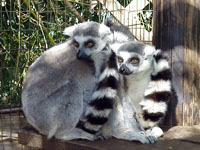cat: (22, 21, 112, 138), (83, 40, 177, 143)
